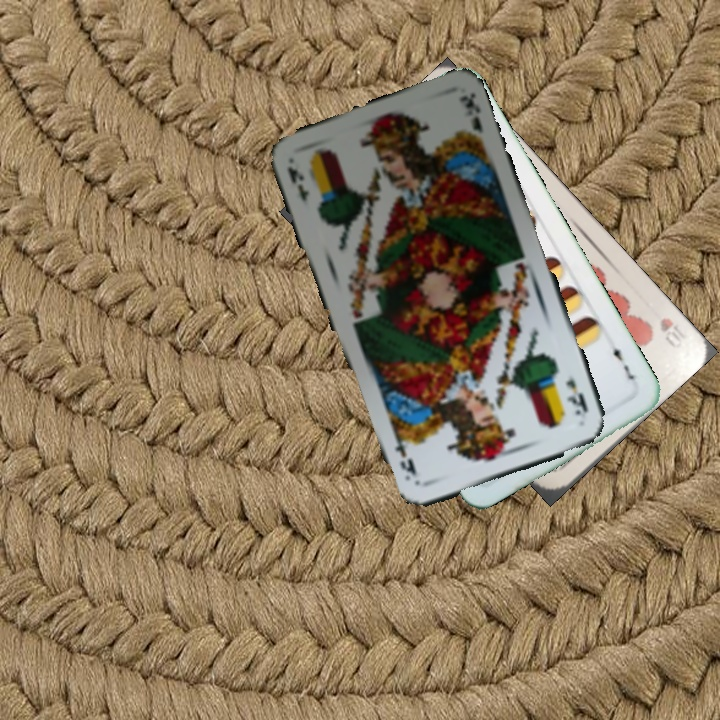E7: (607, 337, 637, 383)
EK: (561, 375, 591, 418), (283, 162, 313, 205)
H10: (655, 313, 687, 352)
